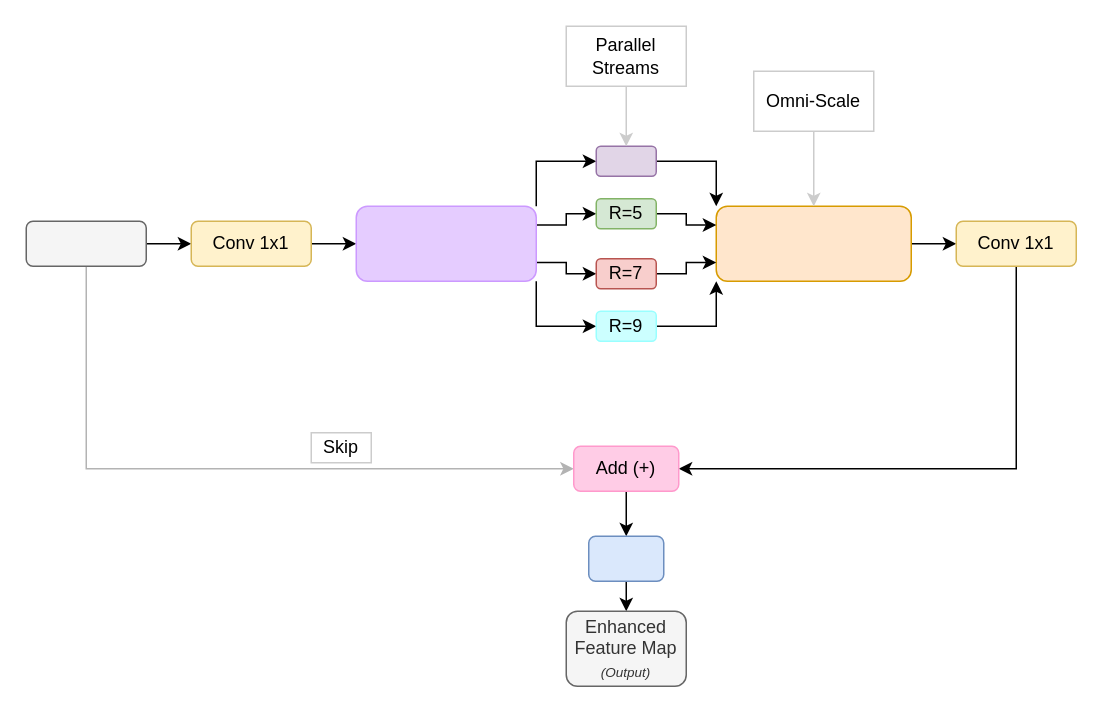
This 1103x713 diagram has some shape labels left out. Here are the shapes that lost their labels. From the top down, the centre of each, then its label:
the point at 625,160: R=3
the point at 85,243: Feature Map (Input)
the point at 445,243: Intermediate Feature Map
the point at 813,243: Channel-wise Adaptive Aggregation
the point at 625,558: ReLU
